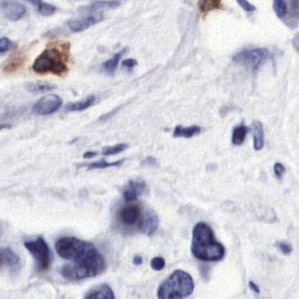Lymphocyte: (32, 47, 70, 76)
